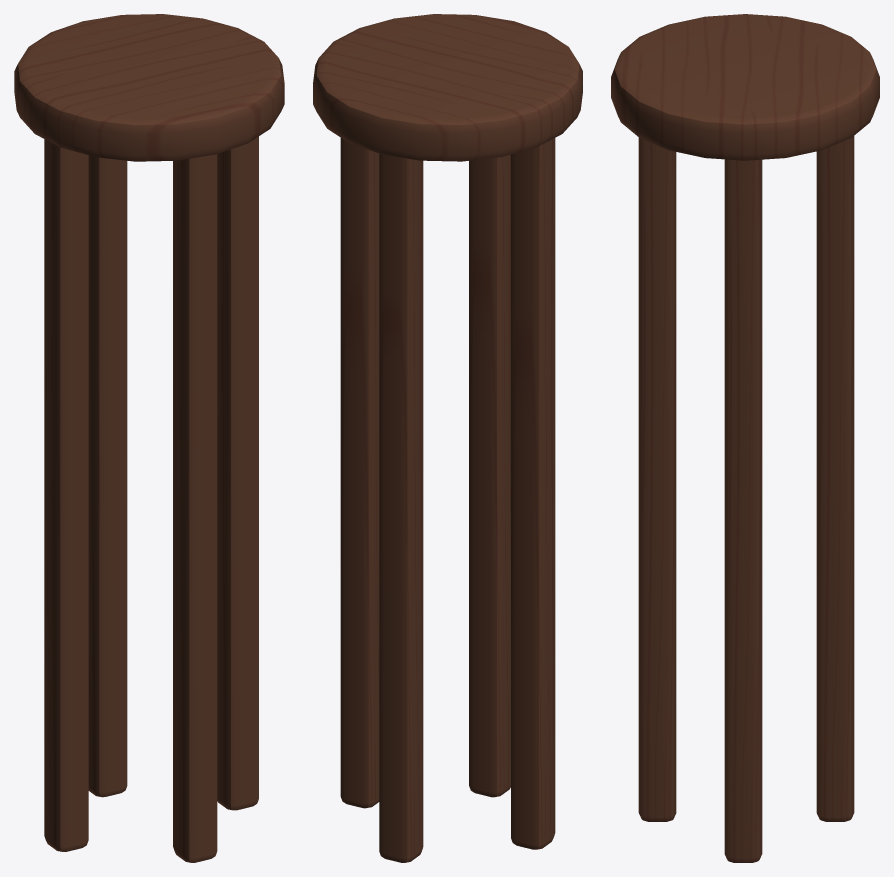
The model's file is Table.fbx.
3 renders of one model, left to right at view 1: azimuth 30°, elevation 25°; view 2: azimuth 150°, elevation 25°; view 3: azimuth 270°, elevation 25°, orthographic.
Visible parts, largest first — view 1: pCube29; view 2: pCube29; view 3: pCube29.
Boxes of the visible parts, x1,y1,x2,y2 form: pCube29: (14, 14, 284, 862); pCube29: (313, 14, 582, 862); pCube29: (611, 14, 879, 862).
Size of the model in its own units: 2 by 6.16 by 2.
